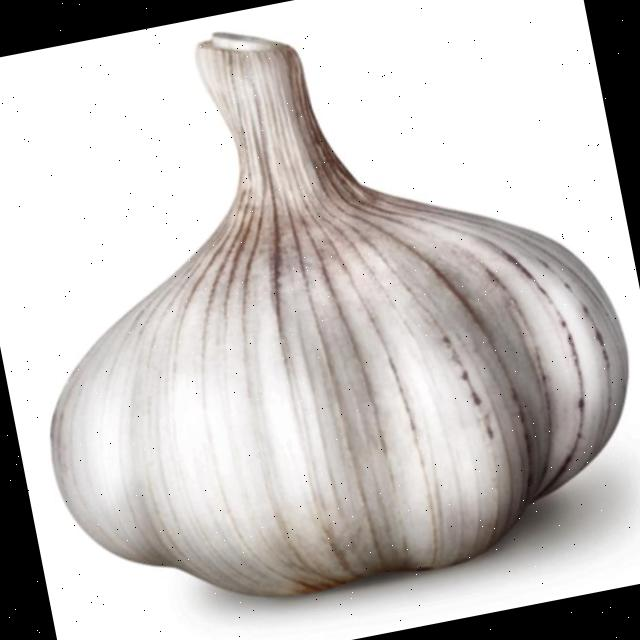garlic: (50, 33, 627, 594)
